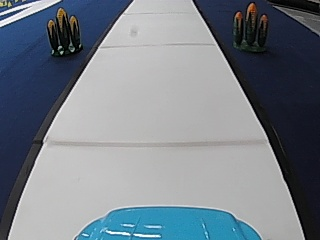corn: (227, 3, 275, 55), (43, 7, 86, 58)
